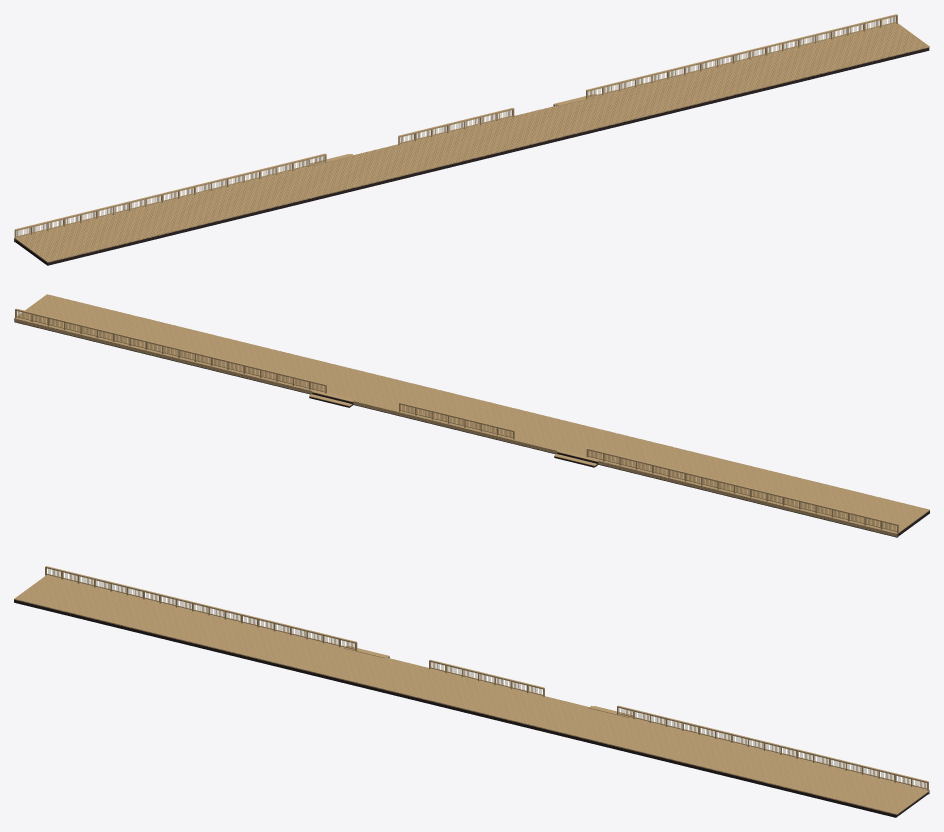
File: gb-boardwalk.glb
3 renders of one model, top to bottom at view 1: azimuth 30°, elevation 25°; view 2: azimuth 150°, elevation 25°; view 3: azimuth 330°, elevation 25°, orthographic.
Visible parts, largest first — view 1: gb-boardwalk; view 2: gb-boardwalk; view 3: gb-boardwalk.
Boxes of the visible parts, box(x1,y1,x2,y2) form: gb-boardwalk: box(14, 14, 929, 265); gb-boardwalk: box(14, 294, 929, 537); gb-boardwalk: box(14, 566, 929, 817).
Size of the model in its own units: 108 by 1.49 by 7.91.
